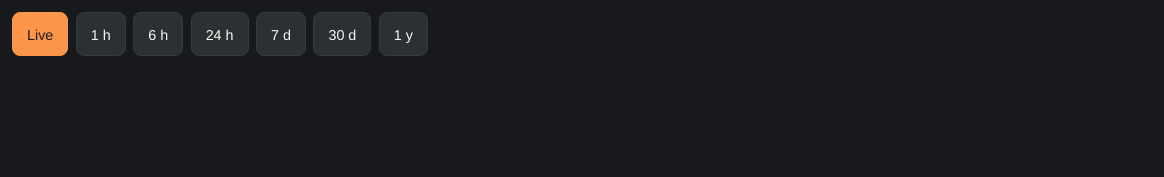
Scenario: PowerHistorySection › shows an error with a retry when the history can't load
This screenshot has width=1164, height=177.
Click the button "7 d". click: (281, 34)
box: [256,12,306,56]
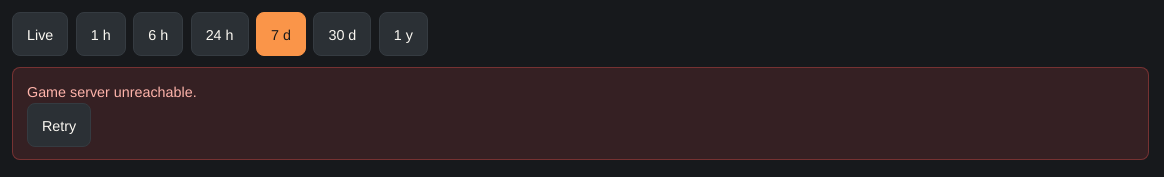
Now the message "Game server unreachable. Retry" is shown, box [12,67,1149,160]
Now the button "Retry" is shown, box [27,103,91,147]
